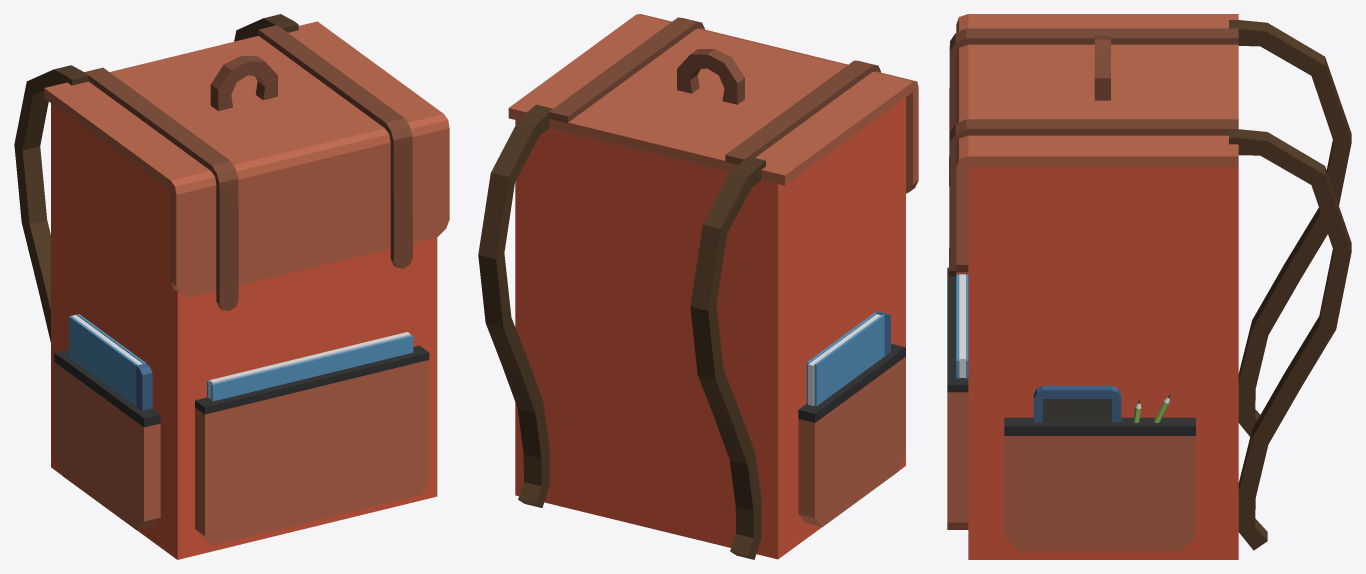
The model's file is backpack.glb.
3 views of the same model, side by side, from view 1: azimuth 30°, elevation 25°; view 2: azimuth 150°, elevation 25°; view 3: azimuth 270°, elevation 25° (orthographic). The views are drawn at different scales.
Visible parts, largest first — view 1: lid, Cube, pocket, straps, items; view 2: Cube, lid, pocket, straps, items; view 3: Cube, lid, pocket, straps, items.
Boxes of the visible parts, <box> form: lid: <box>14,14,449,342</box>; Cube: <box>51,103,437,559</box>; pocket: <box>54,345,429,545</box>; straps: <box>84,25,412,310</box>; items: <box>69,314,413,410</box>; Cube: <box>515,97,905,559</box>; lid: <box>478,14,918,559</box>; pocket: <box>798,344,905,527</box>; straps: <box>549,17,880,164</box>; items: <box>806,311,890,406</box>; Cube: <box>968,167,1238,559</box>; lid: <box>956,14,1351,550</box>; pocket: <box>947,267,1195,551</box>; straps: <box>949,28,1238,276</box>; items: <box>956,274,1170,422</box>.
Bounding box in the file's own units: 1.64 × 2.27 × 1.84.
